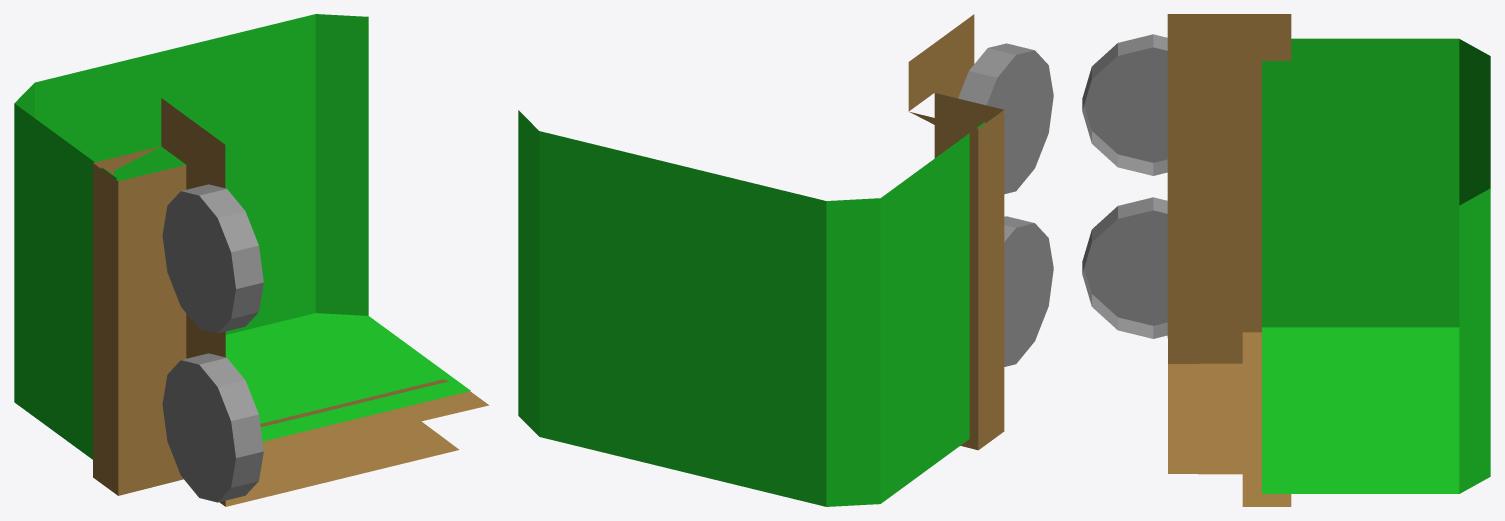
The model's file is CargoTruck_1.fbx.
3 views of the same model, side by side, from view 1: azimuth 30°, elevation 25°; view 2: azimuth 150°, elevation 25°; view 3: azimuth 270°, elevation 25° (orthographic). The views are drawn at different scales.
Visible parts, largest first — view 1: SK_Veh_Truck_Medic_01.002, Wheel_rr2.008, Wheel_rr2.009; view 2: SK_Veh_Truck_Medic_01.002, Wheel_rr2.008, Wheel_rr2.009; view 3: SK_Veh_Truck_Medic_01.002, Wheel_rr2.008, Wheel_rr2.009.
Boxes of the visible parts, <box> form: SK_Veh_Truck_Medic_01.002: <box>14,14,489,506</box>; Wheel_rr2.008: <box>162,184,263,333</box>; Wheel_rr2.009: <box>162,353,263,502</box>; SK_Veh_Truck_Medic_01.002: <box>518,14,1004,506</box>; Wheel_rr2.008: <box>958,43,1053,194</box>; Wheel_rr2.009: <box>1004,216,1053,366</box>; SK_Veh_Truck_Medic_01.002: <box>1167,14,1490,506</box>; Wheel_rr2.008: <box>1082,34,1167,175</box>; Wheel_rr2.009: <box>1082,197,1167,338</box>.
Size of the model in its own units: 690 by 645 by 681.
